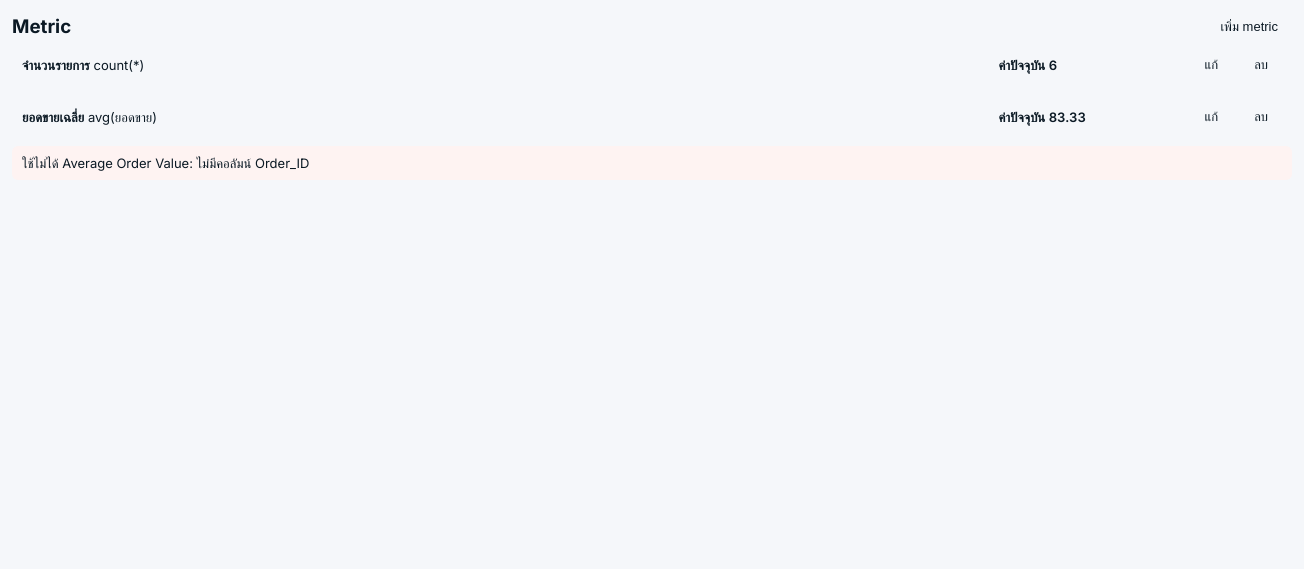
Test case: blocks a metric whose column is hidden
This screenshot has width=1304, height=569.
Click the button with aria-label "แก้ ยอดขายเฉลี่ย".
click(1211, 117)  # box [1190, 102, 1232, 132]
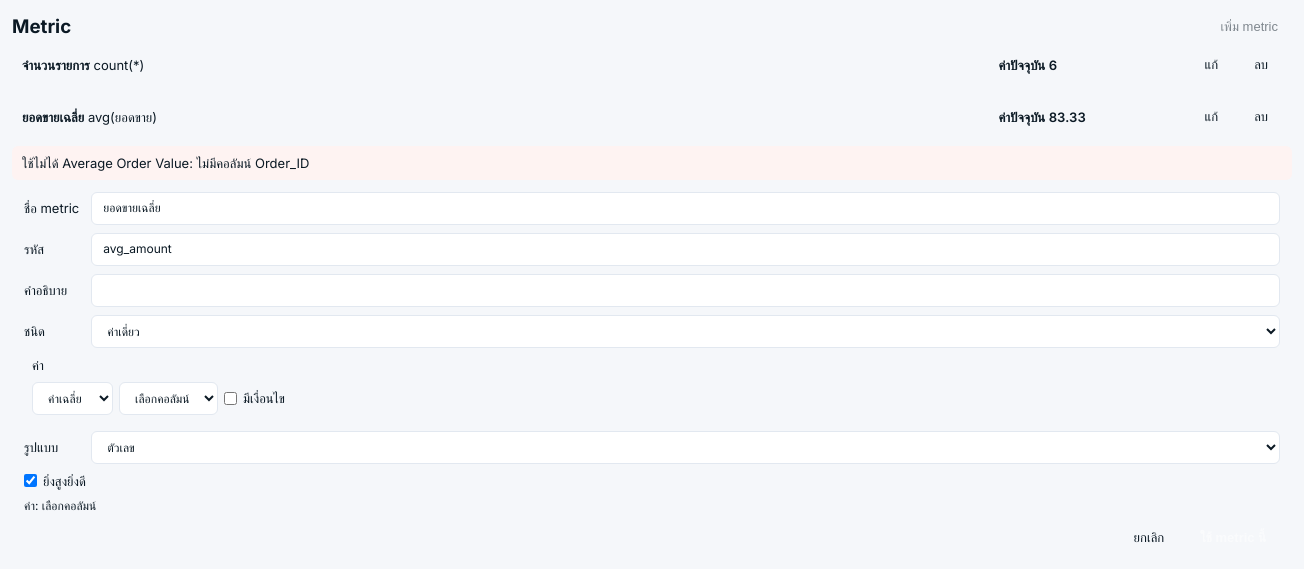
Result: the text "ค่า: เลือกคอลัมน์" is shown at [24, 498, 96, 513]
